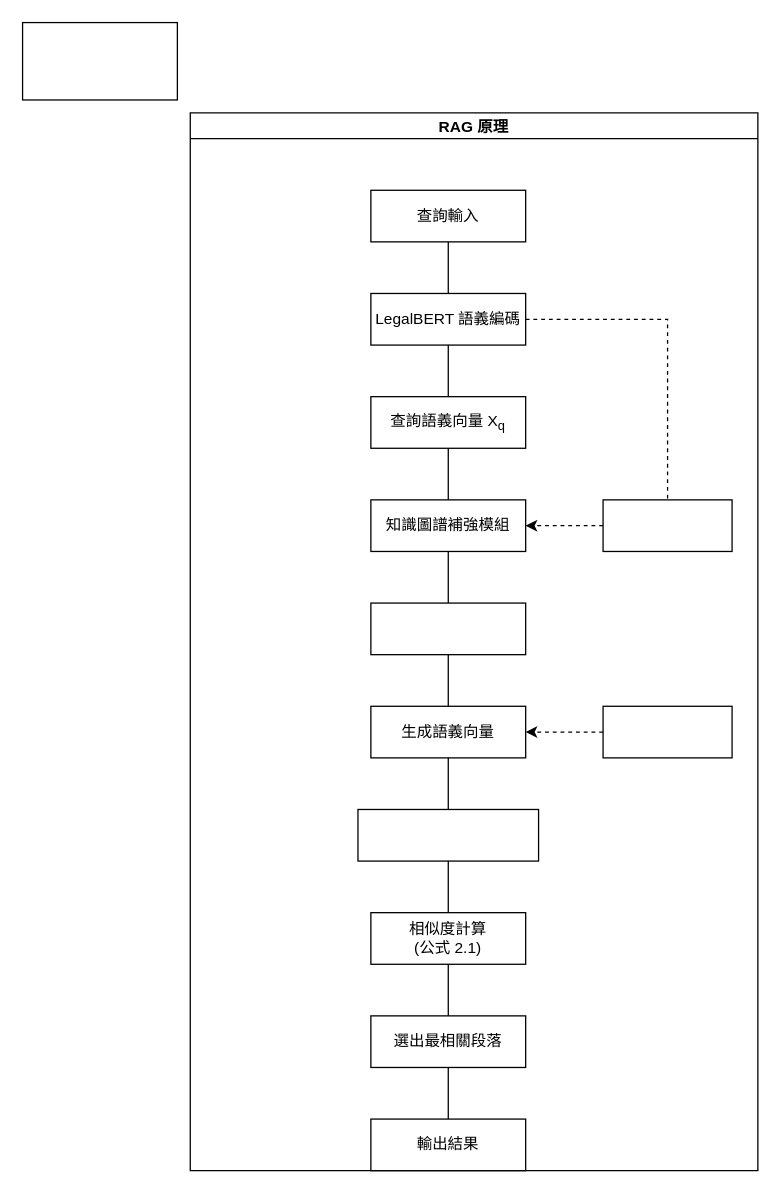
Image size: 780x1193. Some labels were removed from this diagram. The shapes that lost their labels are listed below. From the top down, each one's box as (x1, y1, x2, y2) in pixels, then its label:
(602, 499, 732, 551): 知識圖譜
(370, 602, 526, 655): 補強後查詢向量 X q ′
(602, 705, 732, 758): 候選段落 D (共M筆)
(357, 808, 539, 861): 語義向量 X 1 , … , X M
